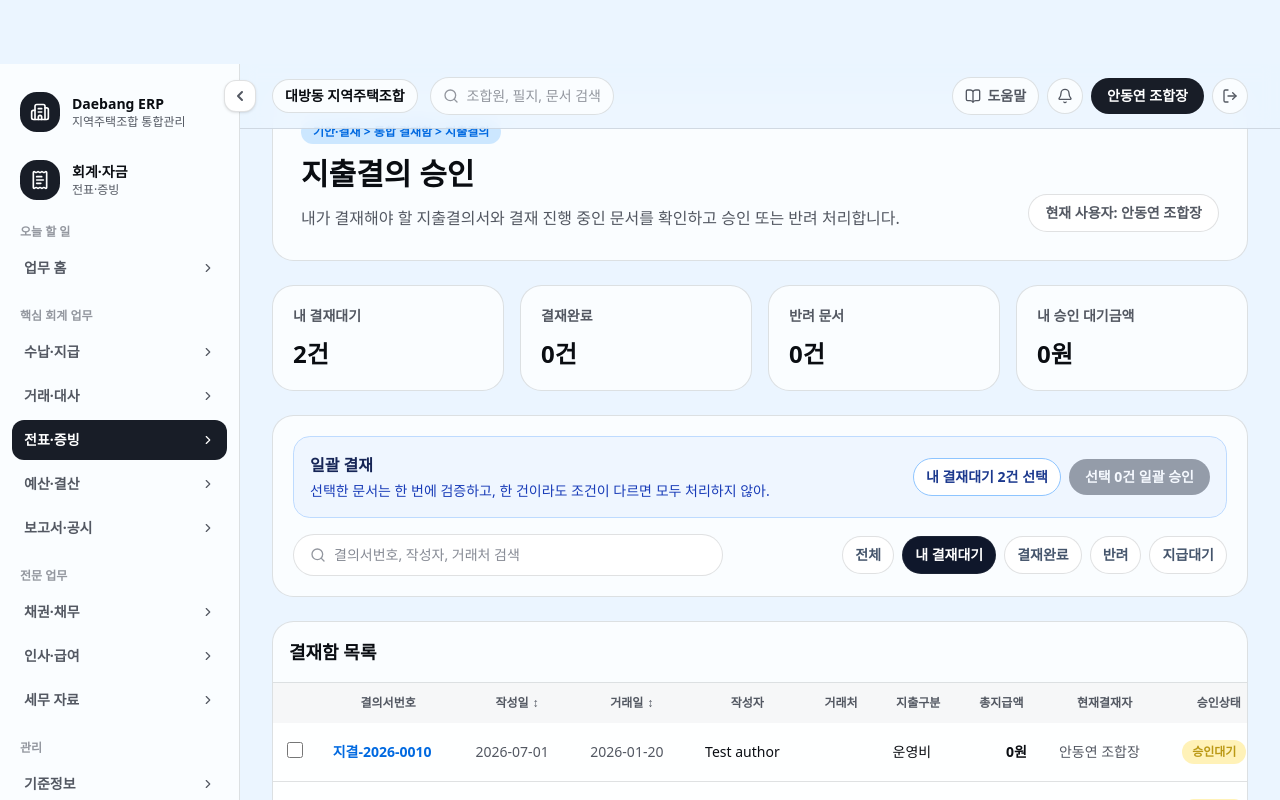
Test: ExpenseApprovalInboxPage › approves selected pending resolutions as one guarded batch with a separate business reference date
Later steps or results of the test are not shown.
Click the button "내 결재대기 2건 선택": coordinates (987, 477) [913,458,1061,496]
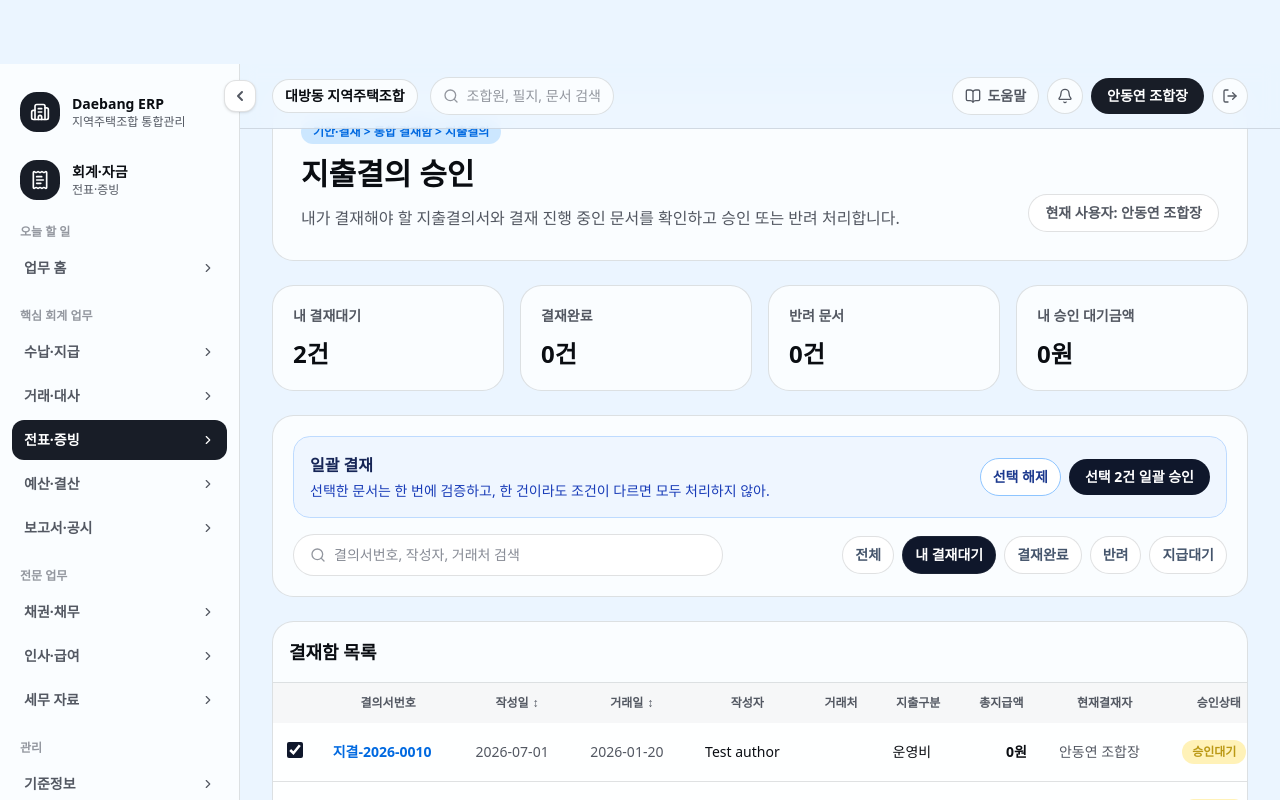
Click the button "선택 2건 일괄 승인": coordinates (1139, 477) [1069,459,1210,495]
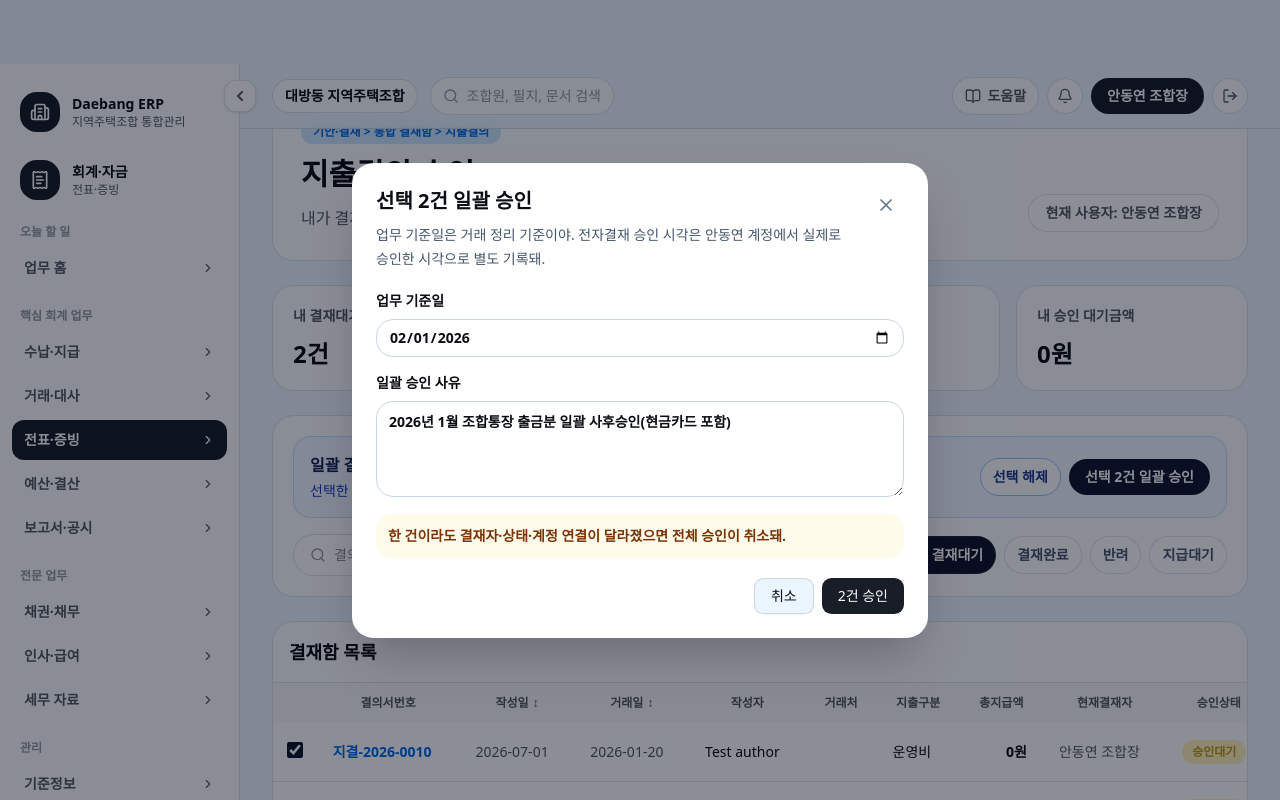
Expected: the date field labelled "업무 기준일" holds "2026-02-01", [376,318,904,356]
Expected: the text box labelled "일괄 승인 사유" holds "2026년 1월 조합통장 출금분 일괄 사후승인(현금카드 포함)", [376,400,904,496]
